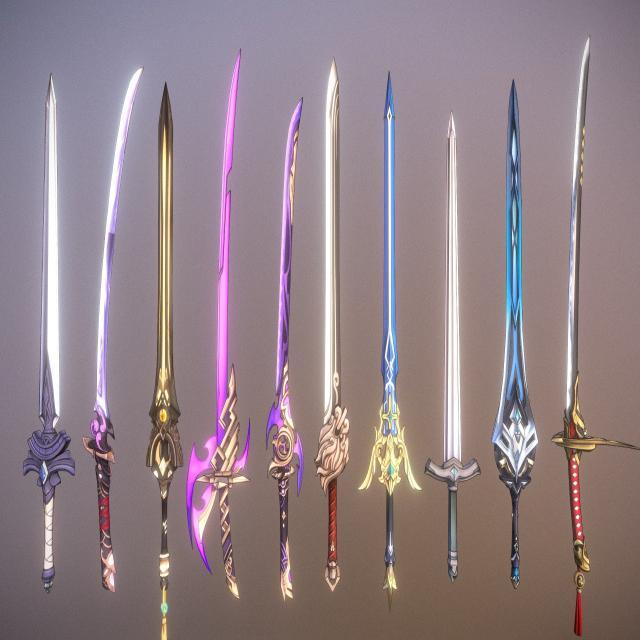katana: (81, 60, 148, 623), (188, 34, 251, 605), (250, 89, 308, 633), (554, 28, 604, 613)
sword: (315, 35, 362, 612), (425, 107, 481, 590), (24, 54, 70, 590), (367, 60, 411, 611), (145, 68, 187, 631), (497, 69, 535, 585)
